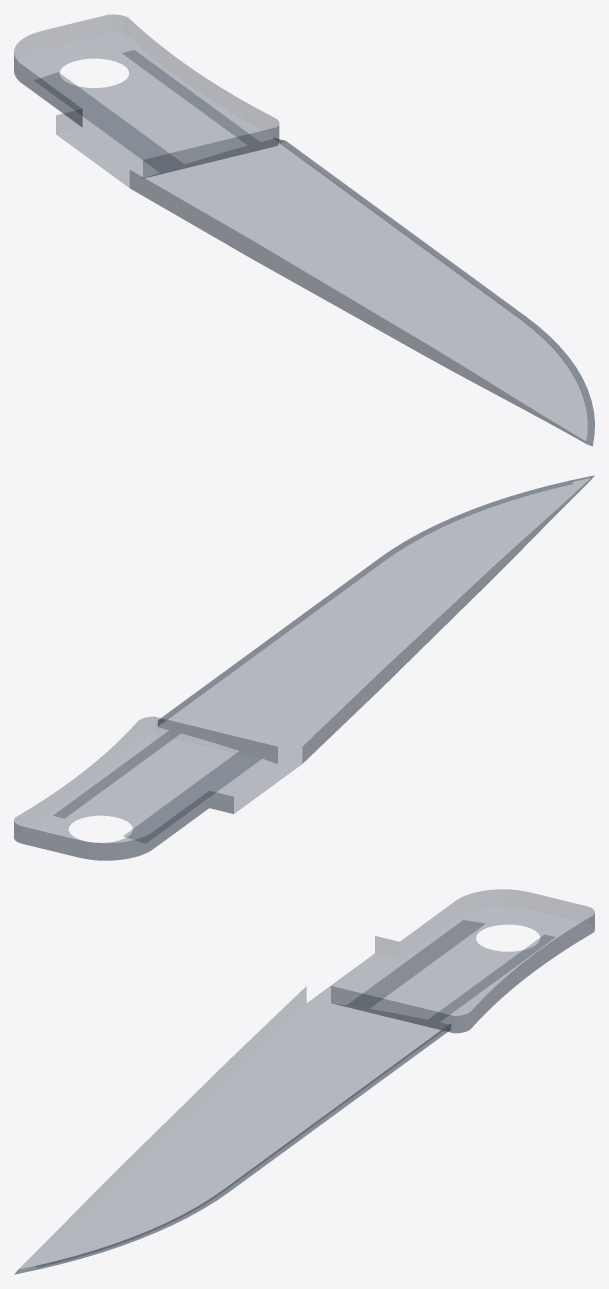
The model's file is original-21.obj.
3 views of the same model, one above another, from view 1: azimuth 30°, elevation 25°; view 2: azimuth 150°, elevation 25°; view 3: azimuth 330°, elevation 25° (orthographic). The views are drawn at different scales.
Visible parts, largest first — view 1: #ID73; view 2: #ID73; view 3: #ID73.
Part boxes in pixels (box(x1,y1,x2,y2)): #ID73: box(14, 14, 594, 446); #ID73: box(14, 475, 594, 860); #ID73: box(14, 889, 594, 1274).
Bounding box in the file's own units: 0.157 × 0.0175 × 0.9295.
